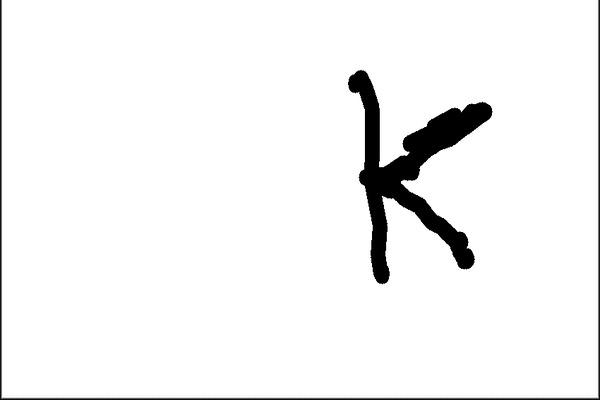K: (339, 64, 495, 286)
